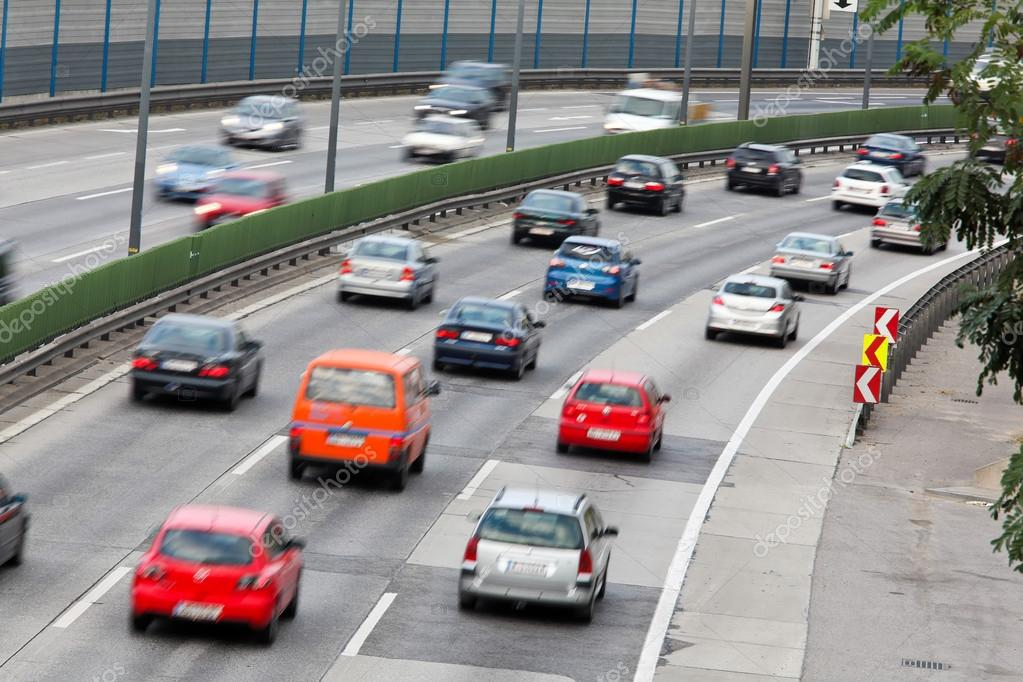car: (127, 502, 304, 645), (284, 344, 431, 492), (456, 487, 610, 623), (129, 313, 261, 411), (556, 371, 666, 466), (433, 296, 542, 378), (335, 231, 436, 308), (544, 234, 639, 310), (704, 273, 801, 345), (514, 189, 601, 250), (769, 230, 850, 294), (609, 152, 684, 216), (724, 138, 803, 198), (832, 161, 908, 213), (854, 131, 924, 176)
